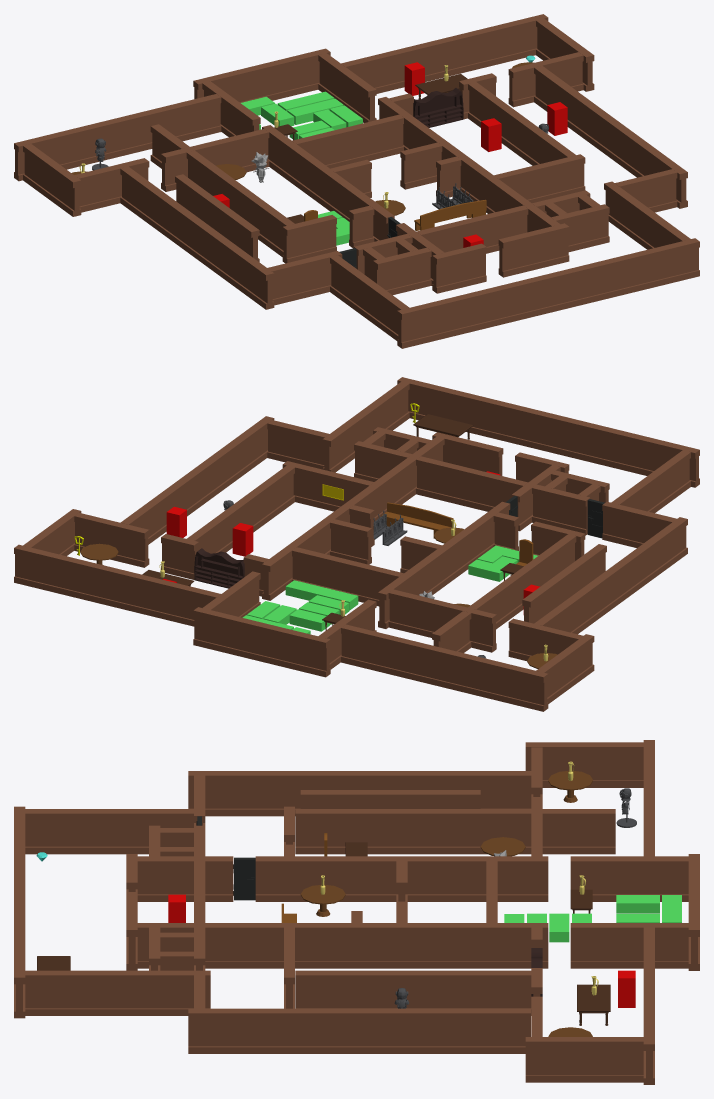
The model's file is Level1_FBX.fbx.
3 views of the same model, one above another, from view 1: azimuth 30°, elevation 25°; view 2: azimuth 150°, elevation 25°; view 3: azimuth 270°, elevation 25° (orthographic). The views are drawn at different scales.
Parts seen in each view (by area): view 1: BookCase1, Chair1, pCube129, pCube121, pCube108, pCube173, pCube64, pCube60, pCube118, pCube47, pCube141, pCube284 (+88 smaller); view 2: BookCase1, Chair1, RecFurniture5, pCube149, pCube173, pCube129, LongTable1, pCube99, pCube121, pCube33, pCube141, pCube171 (+91 smaller); view 3: pCube241, pCube246, pCube236, pCube43, pCube30, pCube20, pCube184, pCube202, pCube226, pCube251, pCube198, pCube193 (+114 smaller).
Part boxes in pixels (x1,y1,x2,y2): BookCase1: [413, 88, 463, 127]; Chair1: [414, 199, 486, 230]; pCube129: [349, 205, 374, 248]; pCube121: [652, 169, 677, 211]; pCube108: [379, 114, 403, 157]; pCube173: [196, 94, 221, 136]; pCube64: [436, 156, 461, 197]; pCube60: [406, 247, 431, 290]; pCube118: [400, 147, 421, 189]; pCube47: [498, 235, 519, 277]; pCube141: [508, 65, 529, 107]; pCube284: [397, 307, 418, 348]; BookCase1: [194, 548, 244, 588]; Chair1: [381, 502, 453, 538]; RecFurniture5: [285, 580, 358, 610]; pCube149: [388, 589, 413, 632]; pCube173: [341, 624, 365, 667]; pCube129: [493, 512, 518, 550]; LongTable1: [413, 414, 473, 439]; pCube99: [416, 456, 440, 499]; pCube121: [267, 420, 291, 462]; pCube33: [309, 635, 330, 677]; pCube141: [128, 526, 149, 567]; pCube171: [527, 670, 548, 711]; pCube241: [615, 1037, 643, 1082]; pCube246: [660, 923, 688, 968]; pCube236: [615, 742, 643, 787]; pCube43: [137, 856, 165, 901]; pCube30: [542, 809, 570, 854]; pCube20: [25, 970, 53, 1015]; pCube184: [295, 809, 323, 854]; pCube202: [25, 809, 53, 854]; pCube226: [503, 1008, 530, 1053]; pCube251: [660, 856, 688, 901]; pCube198: [503, 970, 531, 1015]; pCube193: [295, 970, 323, 1008].
Size of what is drawn, in the model's own units: 32 by 2.11 by 30.5.
